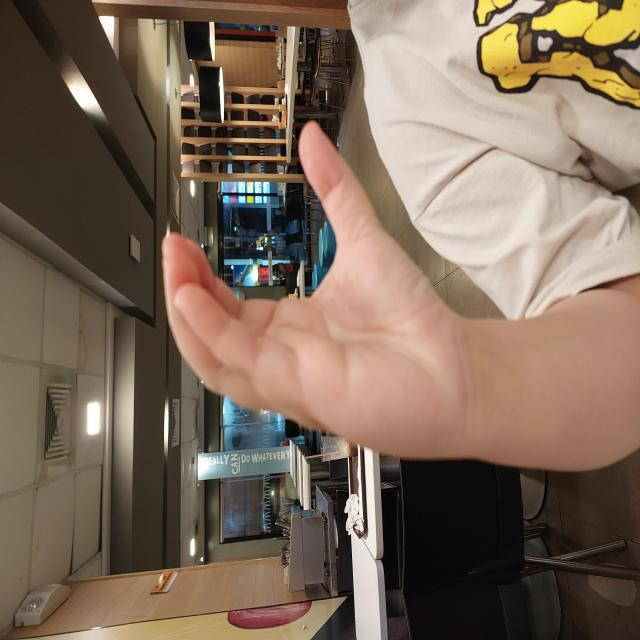C: (184, 159, 520, 465)
